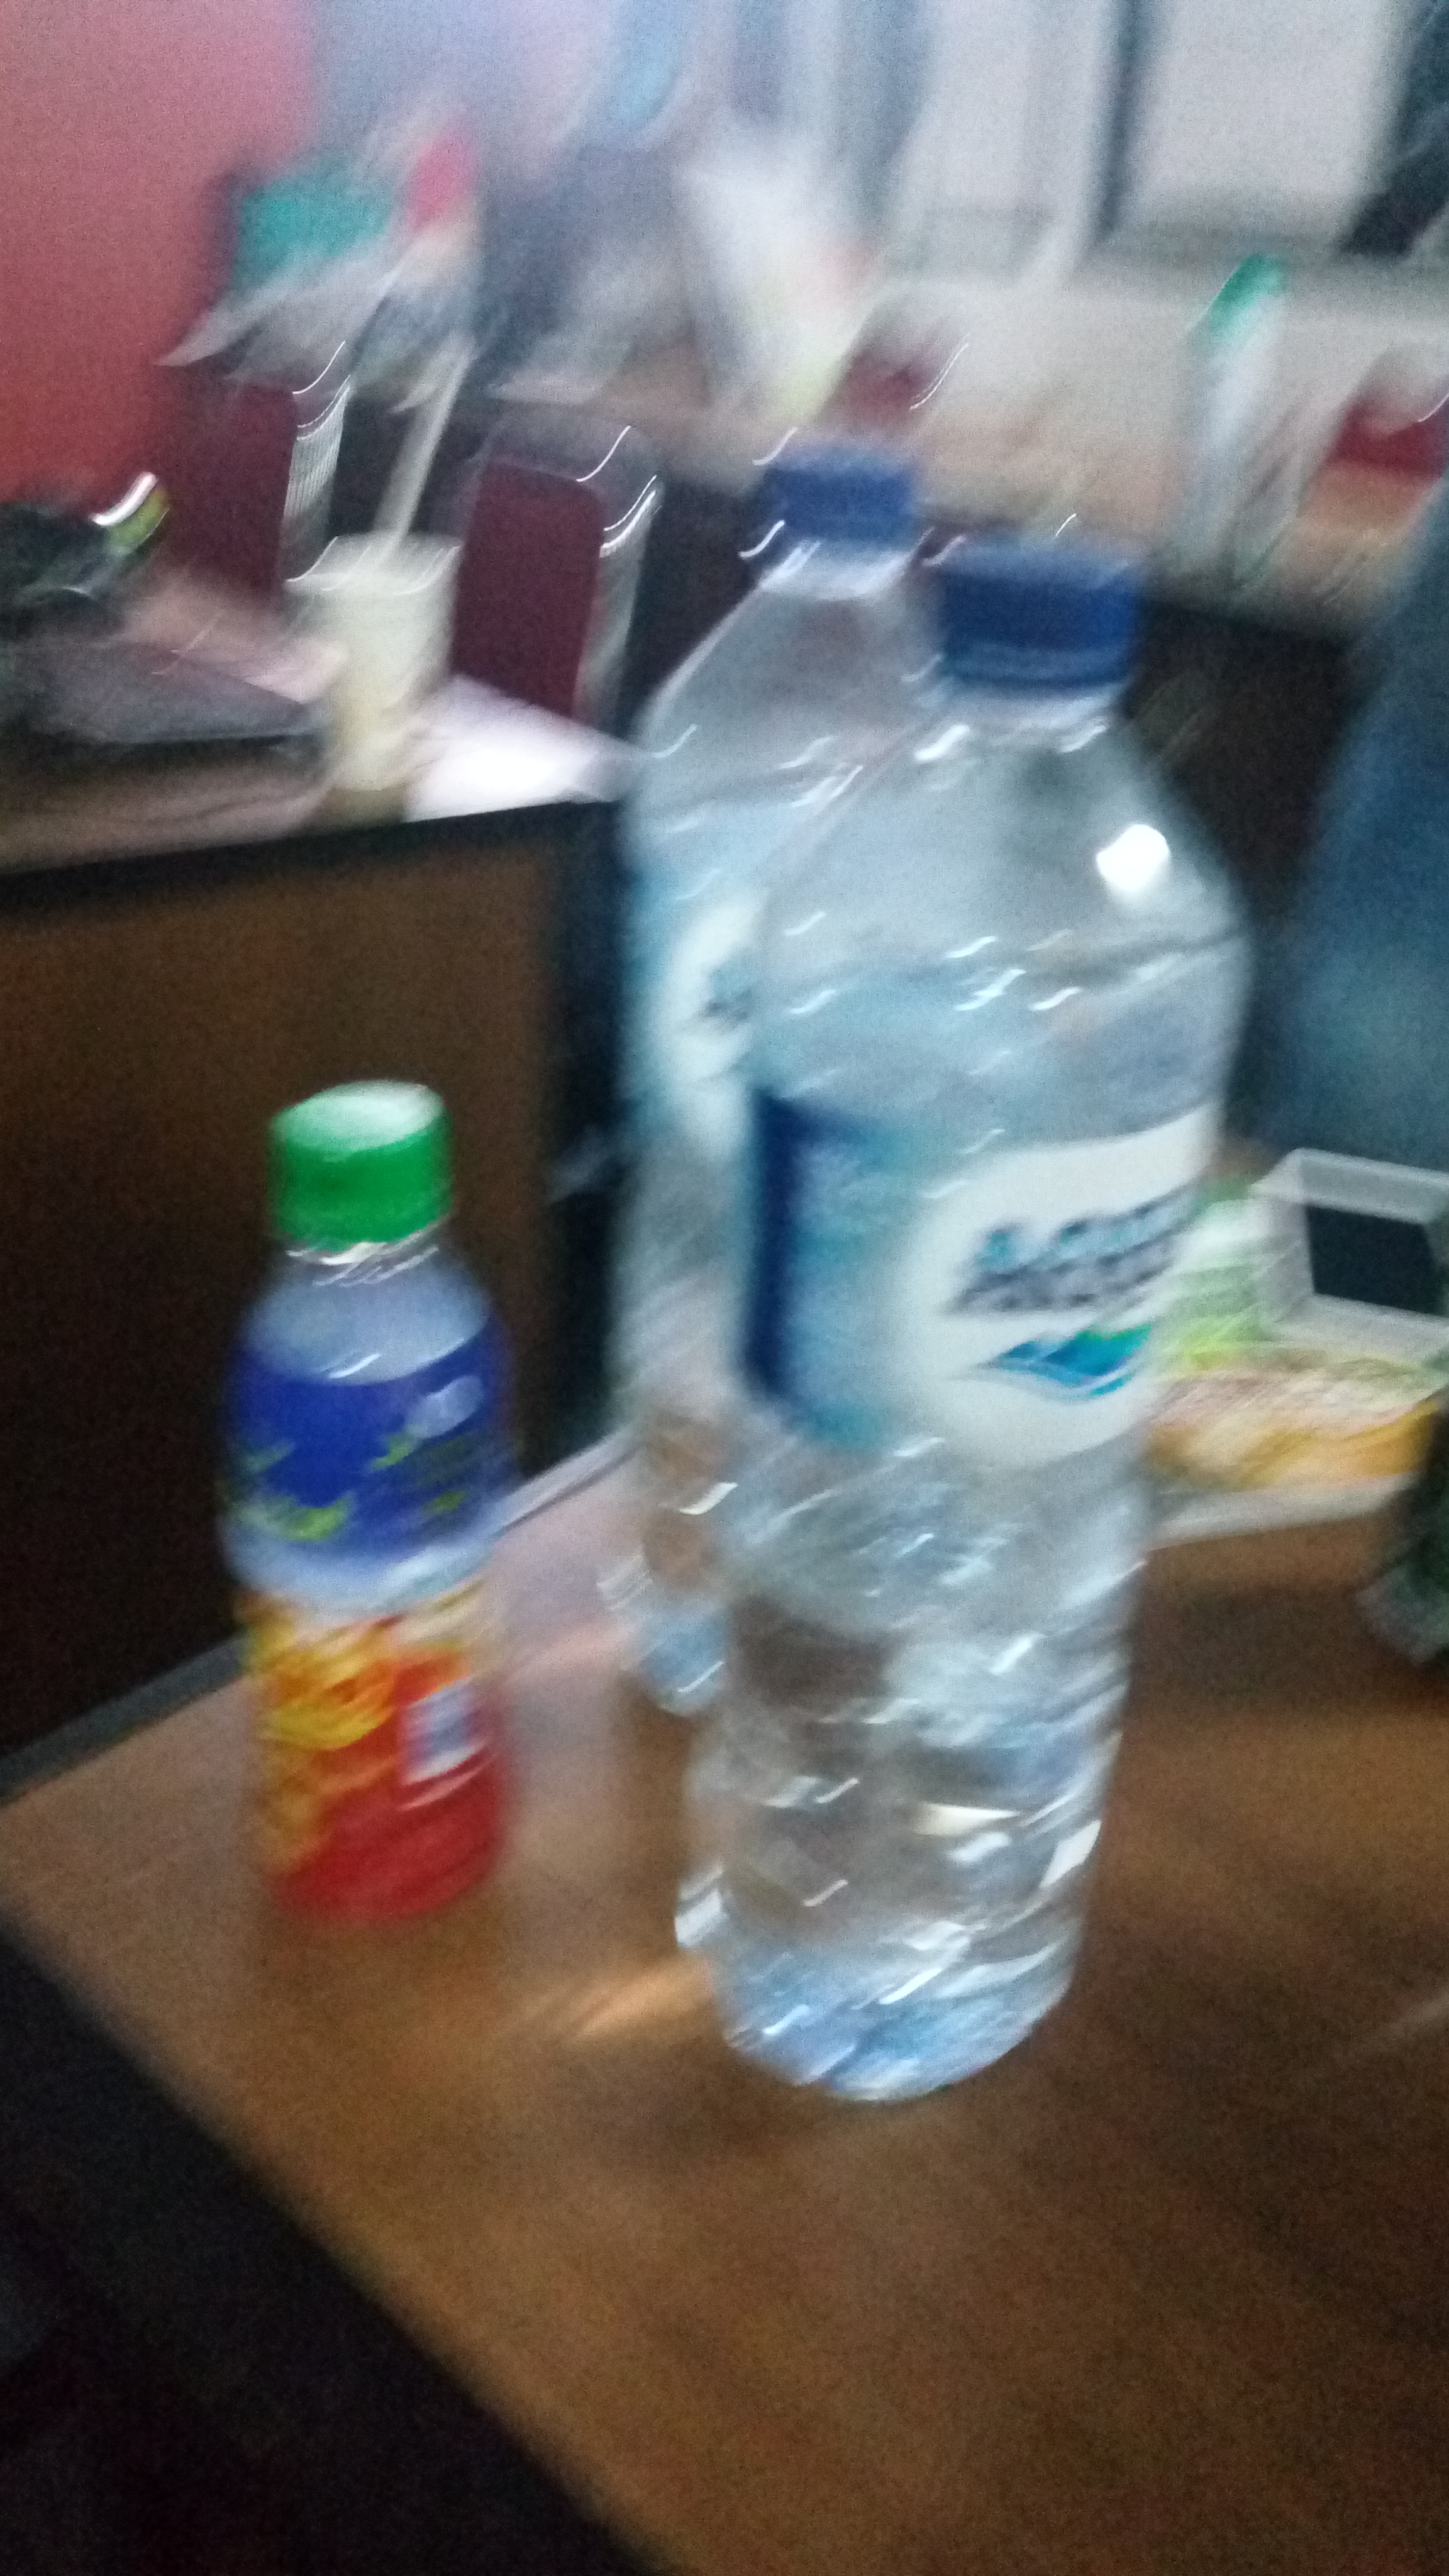botol: (672, 534, 1247, 2120), (672, 534, 1247, 2105), (780, 534, 1247, 2120), (602, 448, 1044, 1707), (223, 1076, 504, 1914)
